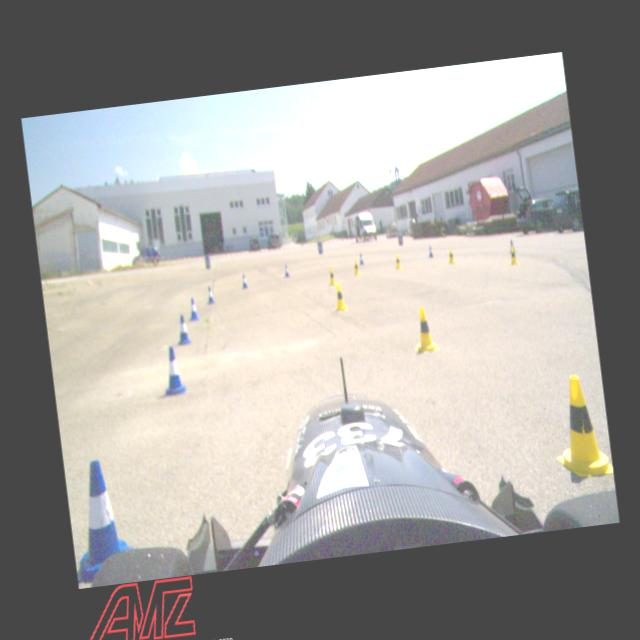blue_cone: (64, 456, 134, 586), (159, 345, 187, 398), (174, 314, 190, 345), (186, 297, 198, 321), (206, 284, 215, 304), (282, 263, 290, 278), (240, 272, 247, 288), (508, 238, 516, 252), (358, 252, 364, 264), (428, 245, 433, 258)
yellow_cone: (546, 370, 612, 480), (410, 305, 439, 354), (332, 282, 348, 311), (327, 266, 337, 286), (508, 246, 518, 266), (352, 258, 361, 275), (394, 253, 402, 269), (446, 248, 454, 264)
